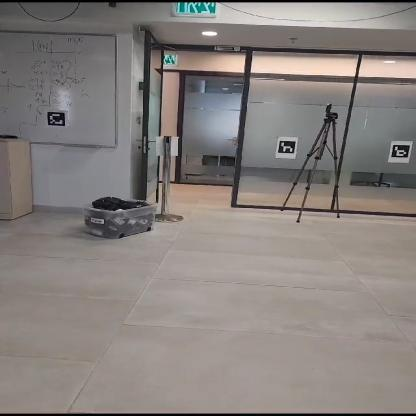open: (140, 63, 241, 210)
